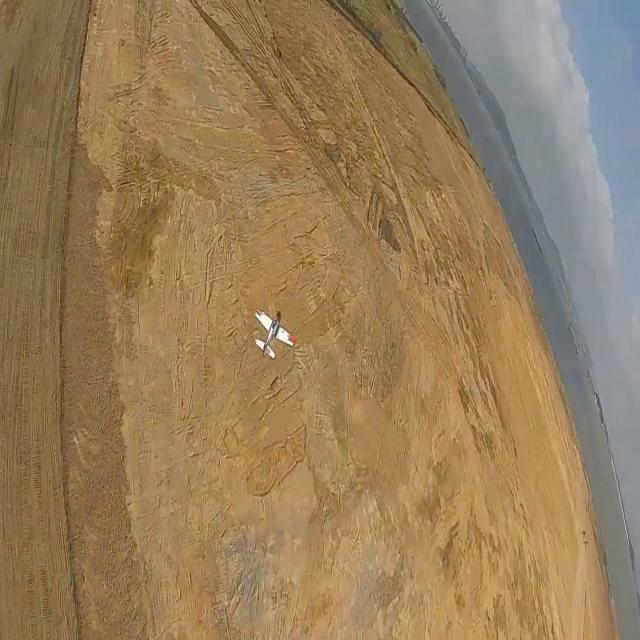iha: (250, 301, 292, 350)
